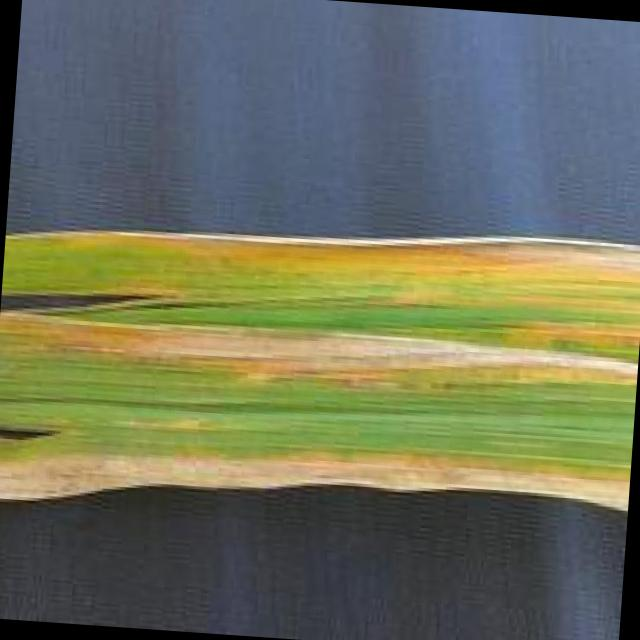Rice_Bacterial_Blight: (3, 201, 640, 516)
